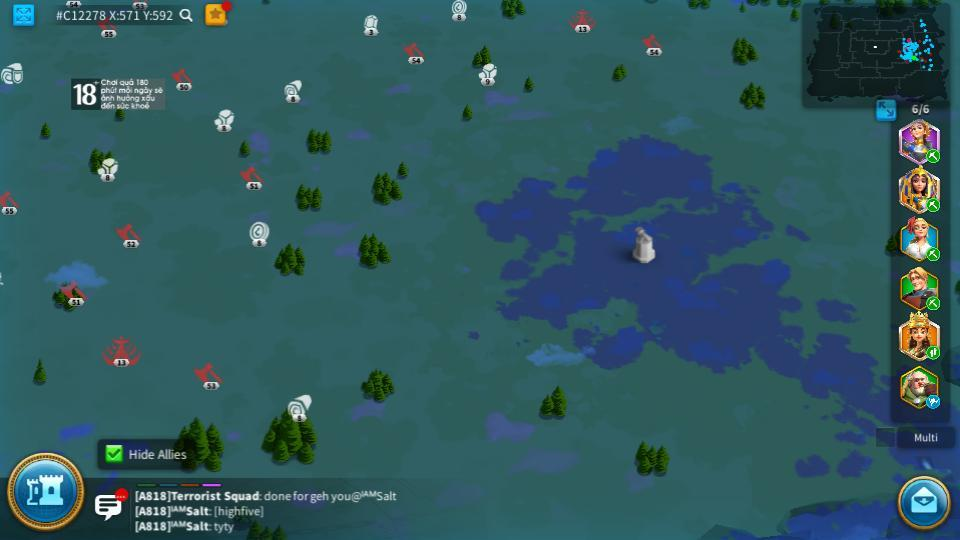gem-z-out: (363, 15, 379, 35)
march_farming: (925, 249, 941, 261)
march_idle: (925, 396, 942, 408)
march_marching: (925, 196, 941, 211), (926, 345, 941, 359), (925, 150, 941, 162), (925, 297, 942, 308)
